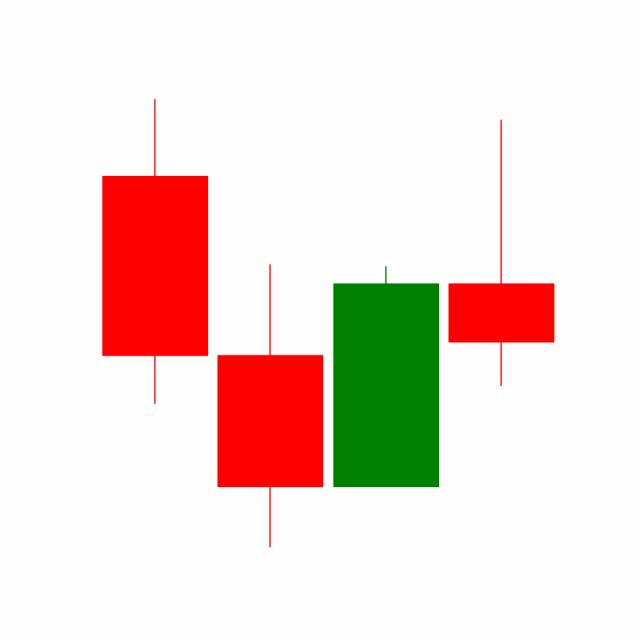Marubozu: (328, 263, 444, 489)
